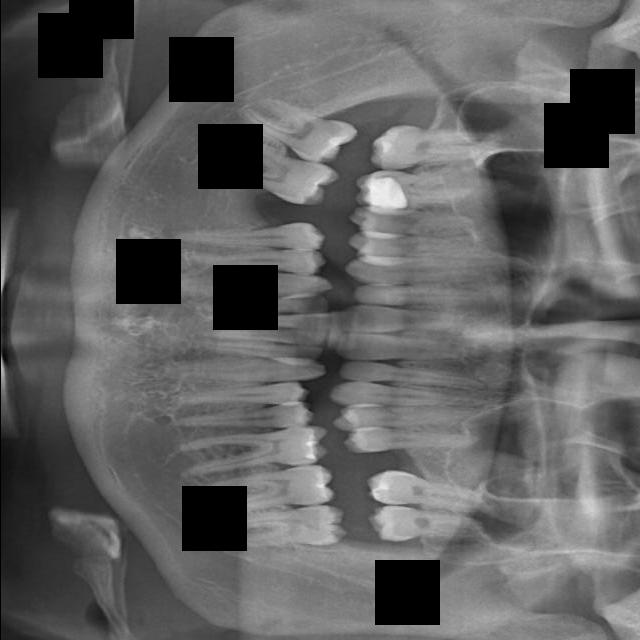AGS Medikal Implant: (254, 489, 256, 490)
AMerOss Implant: (167, 421, 333, 482)
Amalgam filling: (366, 122, 507, 171)
Anthogyr Implant: (163, 400, 318, 442)
Bicon Implant: (169, 379, 314, 415)
BioHorizons Implant: (160, 355, 328, 387)
BioLife Implant: (187, 339, 324, 360)
Biomet 3i Implant: (198, 324, 329, 346)
Blue Sky Bio Implant: (199, 314, 333, 331)
Camlog Implant: (191, 296, 331, 314)
Caries: (333, 358, 489, 392)
Composite filling: (162, 271, 335, 301)
Cowellmedi Implant: (180, 245, 329, 274)
Crown: (169, 217, 329, 250)
DENTSPLY Implant: (350, 163, 492, 213)
Dentis Implant: (191, 122, 343, 217)
Dentium Implant: (280, 122, 281, 123)
Euroteknika Implant: (342, 205, 488, 237)
Filling: (341, 231, 521, 263)
Frontier Implant: (337, 252, 536, 291)
Hiossen Implant: (325, 380, 497, 407)
Implant: (338, 303, 499, 340)
Implant Direct: (348, 285, 517, 308)
Keystone Dental Implant: (330, 332, 497, 365)
MIS Implant: (329, 406, 490, 432)
Mandible: (338, 423, 491, 456)
Megagen Implant: (361, 464, 492, 515)
Neodent Implant: (365, 505, 487, 542)
Neoss Implant: (223, 503, 352, 556)
